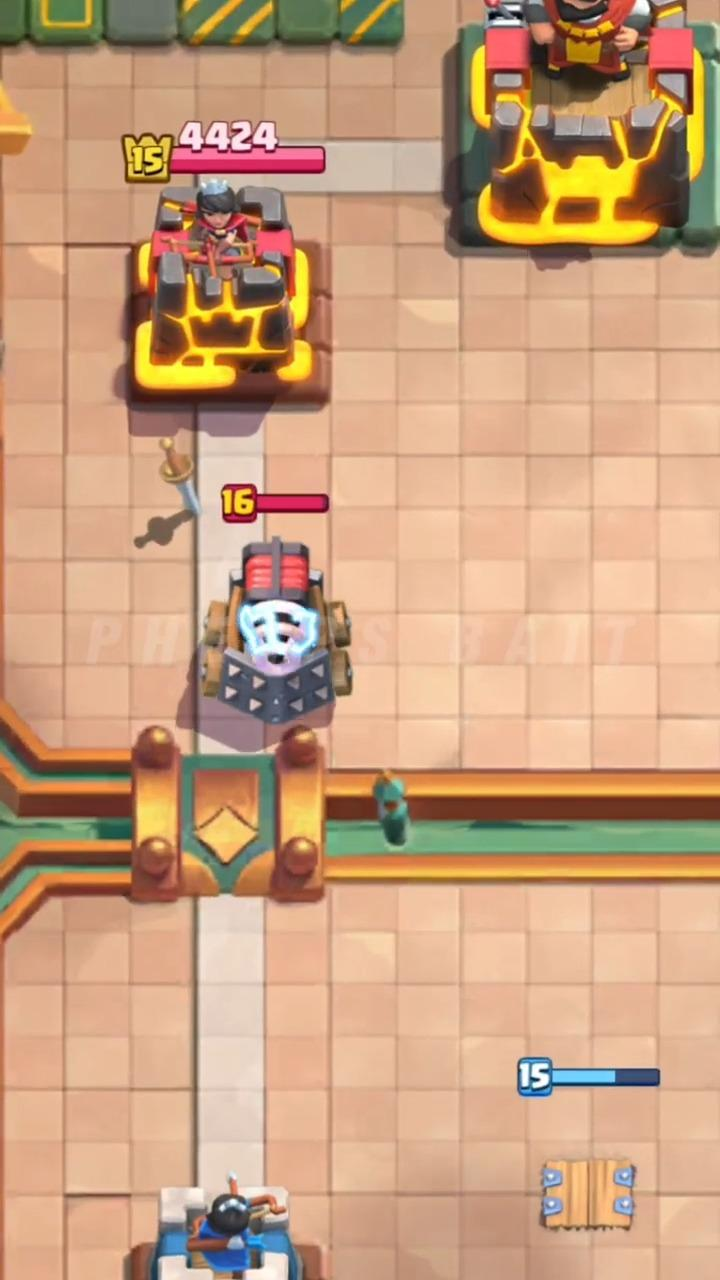sparky: (200, 537, 350, 727)
tesla: (541, 1158, 636, 1231)
